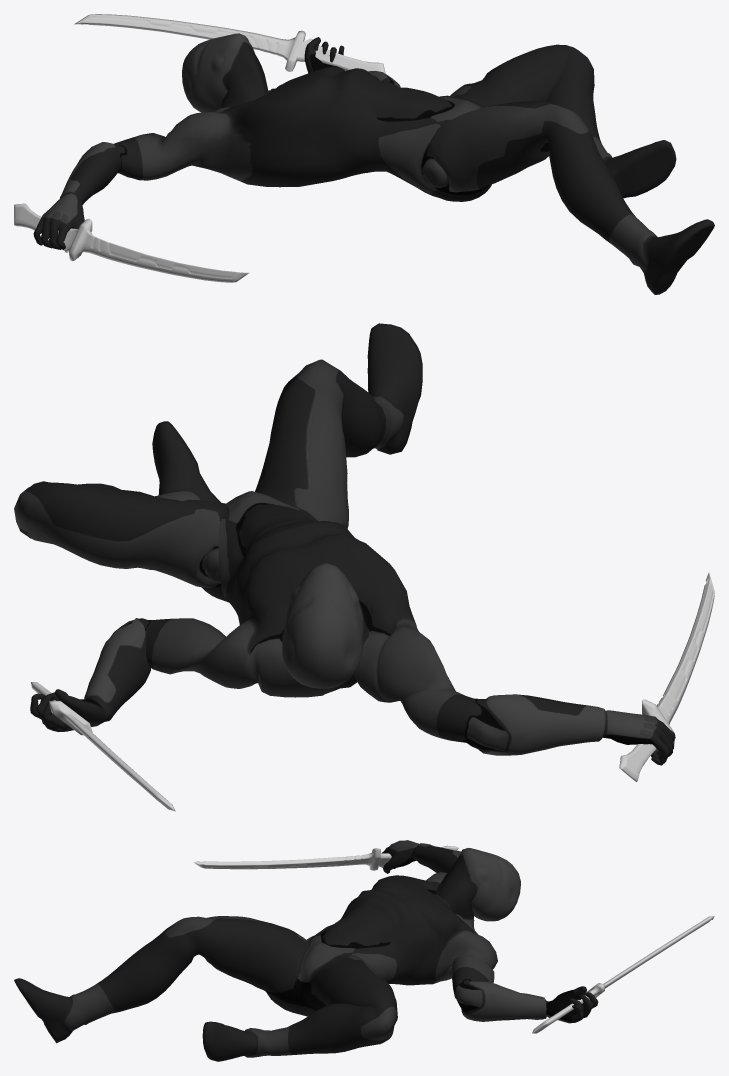
3 renders of one model, top to bottom at view 1: azimuth 30°, elevation 25°; view 2: azimuth 150°, elevation 25°; view 3: azimuth 270°, elevation 25°, orthographic. The views are drawn at different scales.
Parts seen in each view (by area): view 1: Cyborg_Ninja_Killer, Sword_l, Sword_l001; view 2: Cyborg_Ninja_Killer, Sword_l001, Sword_l; view 3: Cyborg_Ninja_Killer, Sword_l001, Sword_l.
Boxes of the visible parts, x1=… form: Cyborg_Ninja_Killer: x1=33, y1=33, x2=714, y2=294; Sword_l: x1=74, y1=14, x2=385, y2=73; Sword_l001: x1=14, y1=203, x2=249, y2=282; Cyborg_Ninja_Killer: x1=14, y1=323, x2=675, y2=765; Sword_l001: x1=619, y1=572, x2=714, y2=781; Sword_l: x1=31, y1=682, x2=175, y2=811; Cyborg_Ninja_Killer: x1=14, y1=840, x2=598, y2=1061; Sword_l001: x1=193, y1=845, x2=459, y2=870; Sword_l: x1=532, y1=916, x2=714, y2=1033.
Bounding box in the file's own units: 172 × 41.3 × 223.
